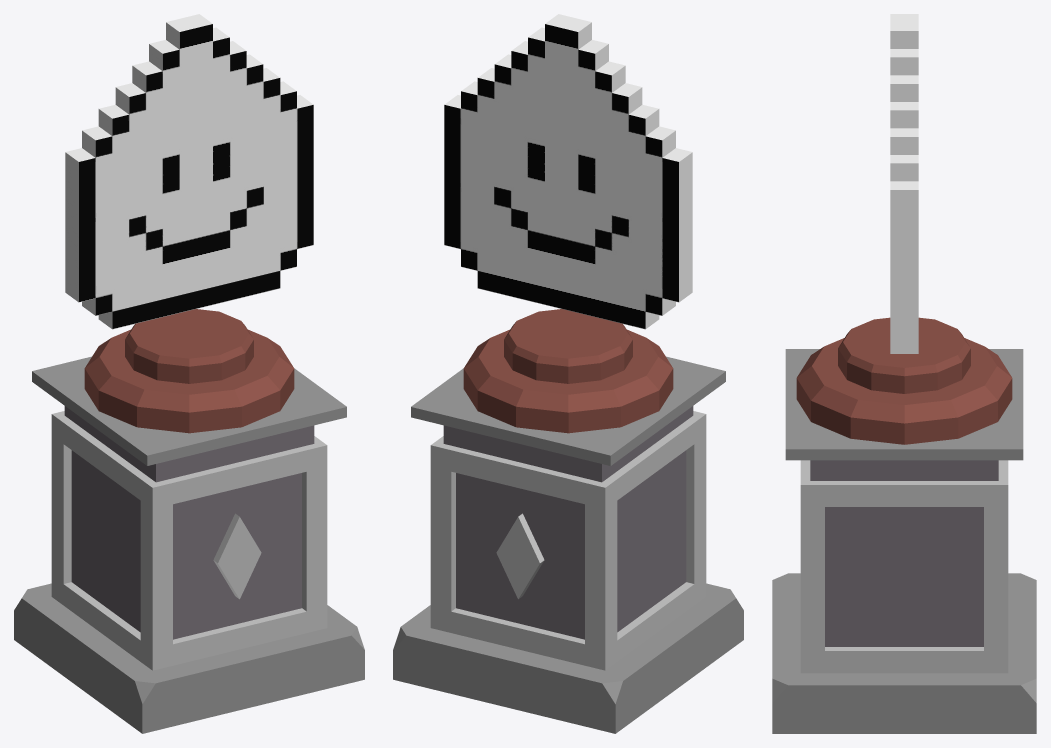
Rendered from D1_STATUE.fbx.
3 views of the same model, side by side, from view 1: azimuth 30°, elevation 25°; view 2: azimuth 150°, elevation 25°; view 3: azimuth 270°, elevation 25° (orthographic). The views are drawn at different scales.
Visible parts, largest first — view 1: Cylinder; view 2: Cylinder; view 3: Cylinder.
Boxes of the visible parts, box(x1,y1,x2,y2) form: Cylinder: box(14, 14, 364, 733); Cylinder: box(393, 14, 743, 733); Cylinder: box(772, 14, 1036, 733).
Bounding box in the file's own units: 123 × 319 × 116.
Materials: 5 (1 with a texture image).
